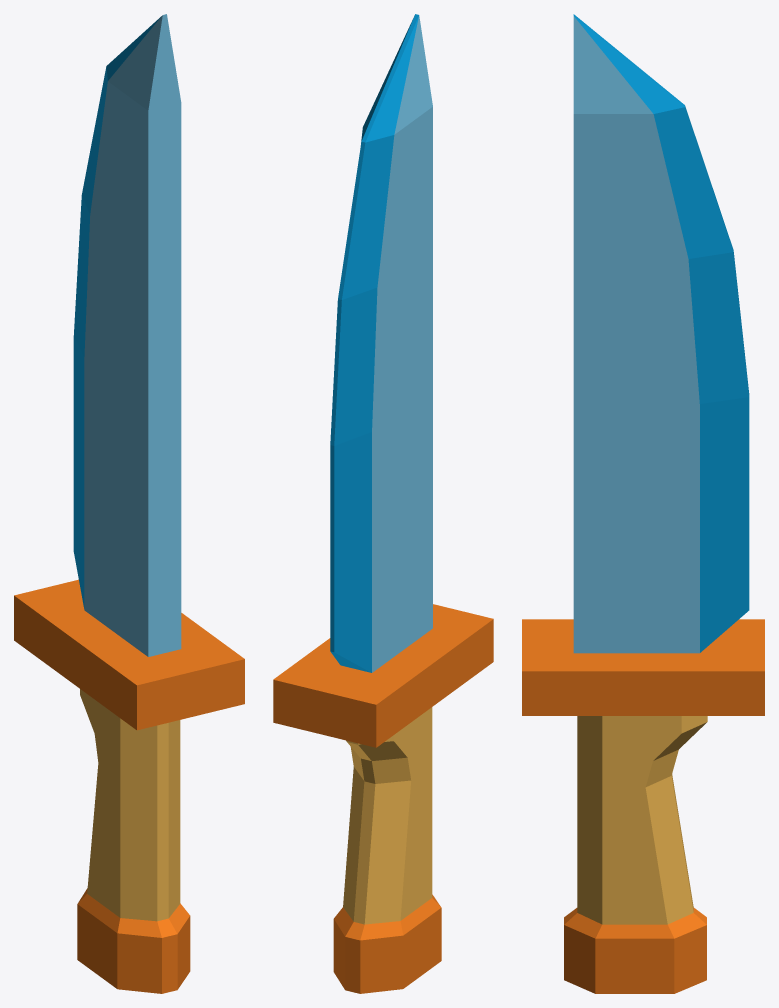
Rendered from Knife.glb.
3 views of the same model, side by side, from view 1: azimuth 30°, elevation 25°; view 2: azimuth 150°, elevation 25°; view 3: azimuth 270°, elevation 25° (orthographic). The views are drawn at different scales.
Visible parts, largest first — view 1: knife; view 2: knife; view 3: knife.
Part boxes in pixels (bbox=[...]): knife: bbox=[14, 14, 244, 993]; knife: bbox=[273, 14, 493, 993]; knife: bbox=[522, 14, 764, 993].
Bounding box in the file's own units: 0.8604 × 7.41 × 1.7.
Materials: 1 (1 with a texture image).
